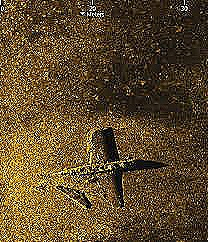aircraft: (31, 126, 150, 209)
